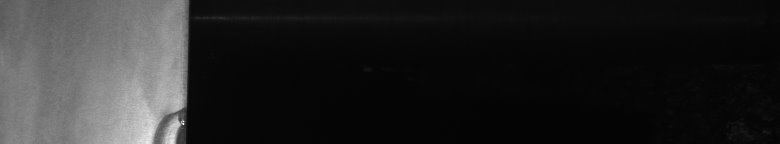hb: (147, 100, 176, 136)
